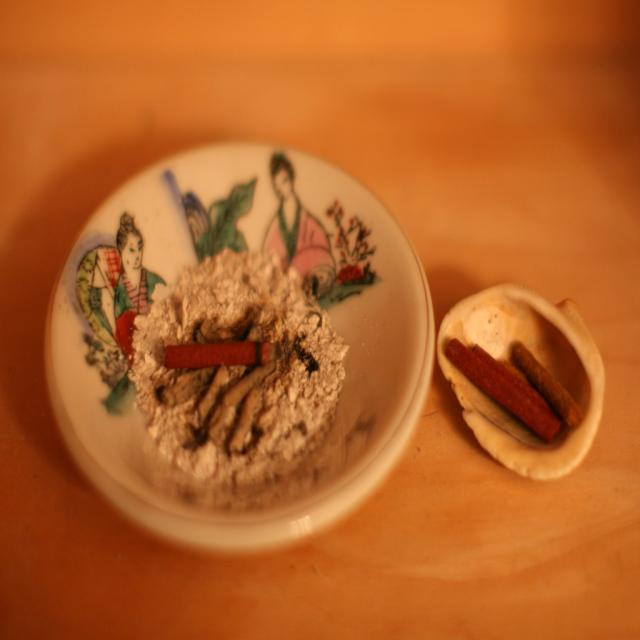non-organic waste: (31, 131, 443, 574)
